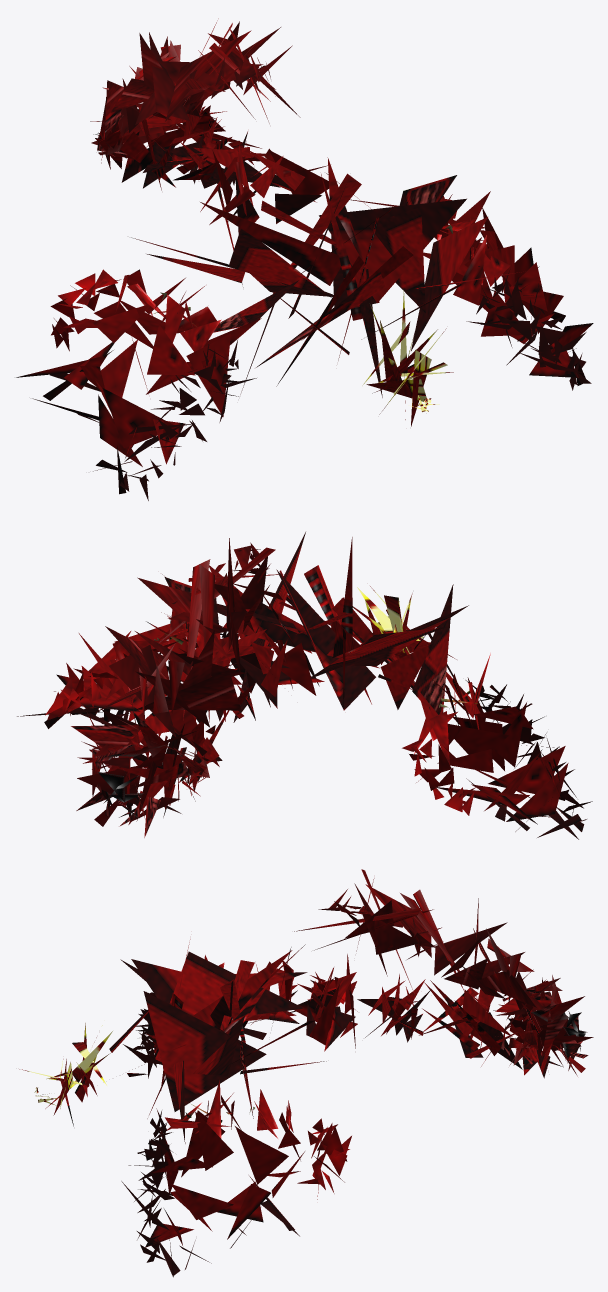
Rendered from delete.icn.obj.
3 views of the same model, one above another, from view 1: azimuth 30°, elevation 25°; view 2: azimuth 150°, elevation 25°; view 3: azimuth 270°, elevation 25° (orthographic). The views are drawn at different scales.
Bounding box in the file's own units: 4.56 × 2.74 × 4.8.
1 material, 1 textured.
